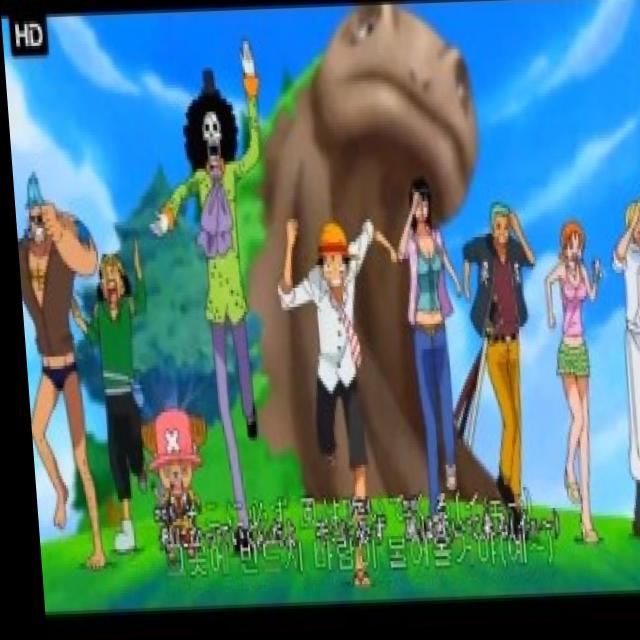Blook: (173, 58, 241, 205)
Chyopa: (129, 396, 211, 568)
Franky: (18, 162, 50, 260)
Luffy: (301, 203, 357, 307)
Nami: (554, 223, 587, 279)
NicoRobin: (396, 170, 434, 246)
Sangdi: (613, 193, 640, 261)
Usopp: (87, 247, 130, 322)
Zoro: (483, 203, 515, 262)
